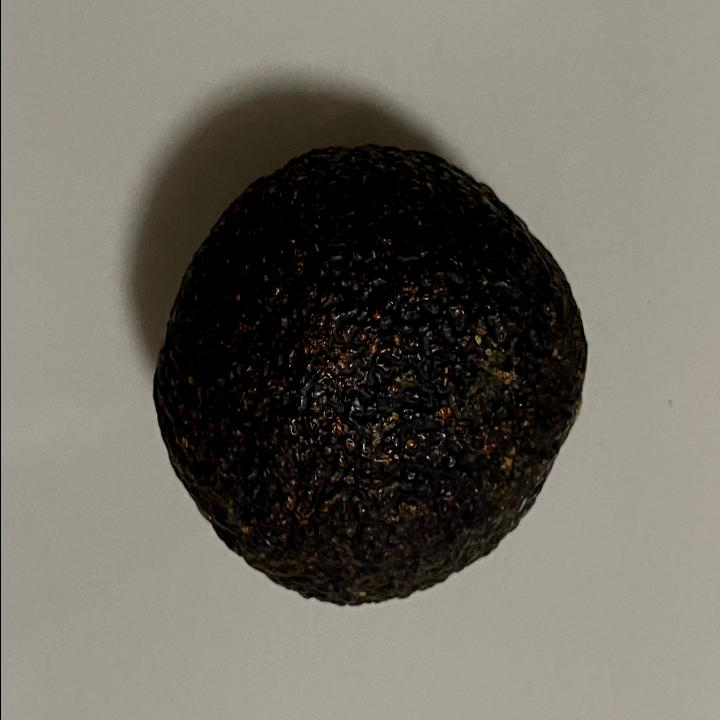Level1: (139, 134, 599, 620)
